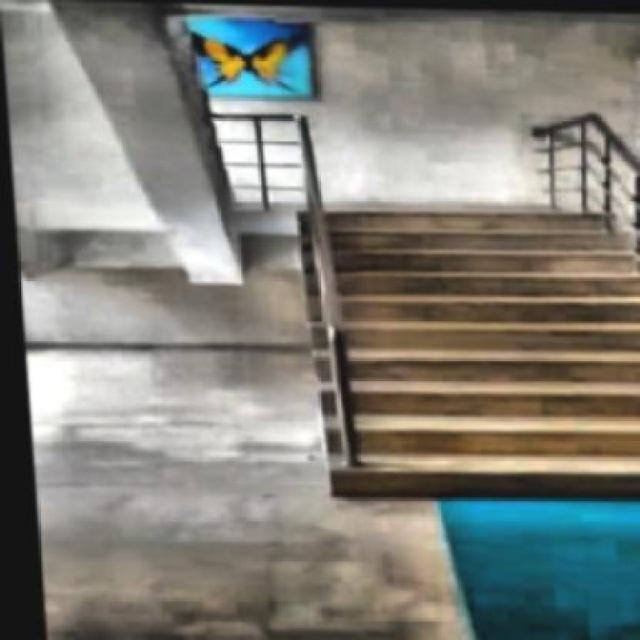stair: (296, 206, 638, 505)
